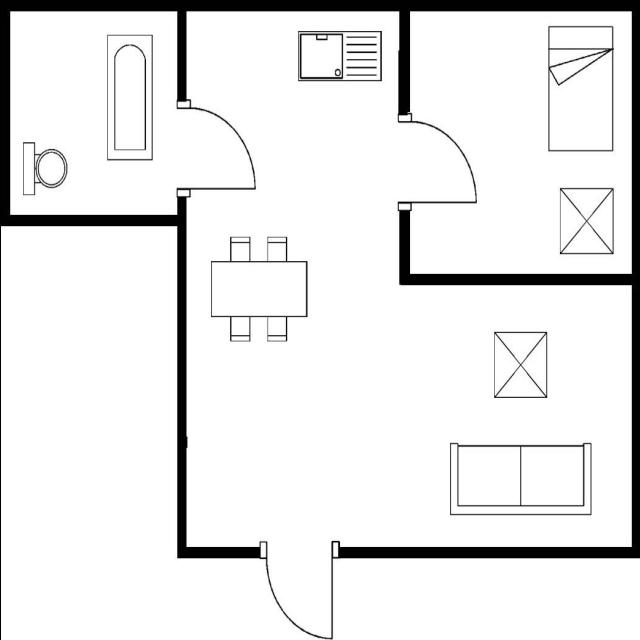bed: (544, 20, 616, 156)
coffee_table: (488, 326, 552, 404), (554, 181, 618, 257)
dining_table: (207, 231, 310, 345)
large_sink: (18, 138, 70, 198)
large_sofa: (444, 438, 596, 520)
sink: (294, 26, 386, 86)
tub: (100, 29, 156, 165)
